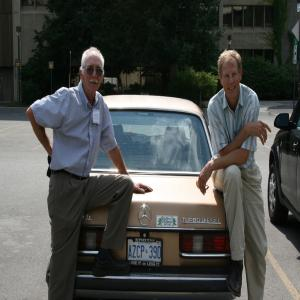Vehicle-registration-plate: (129, 240, 162, 266)
